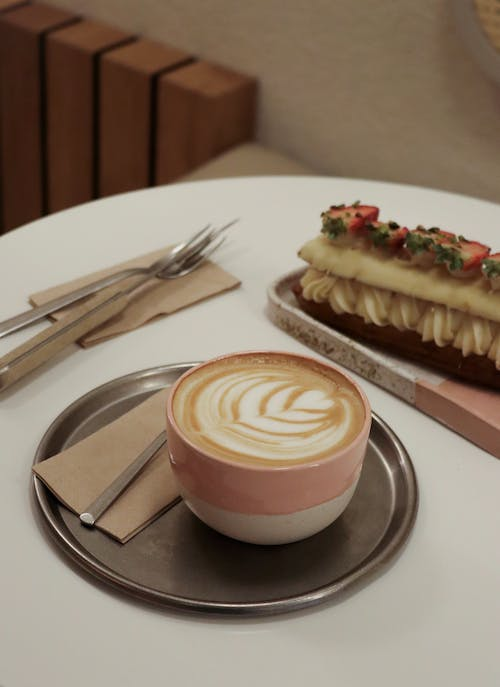knife: (0, 214, 245, 377)
